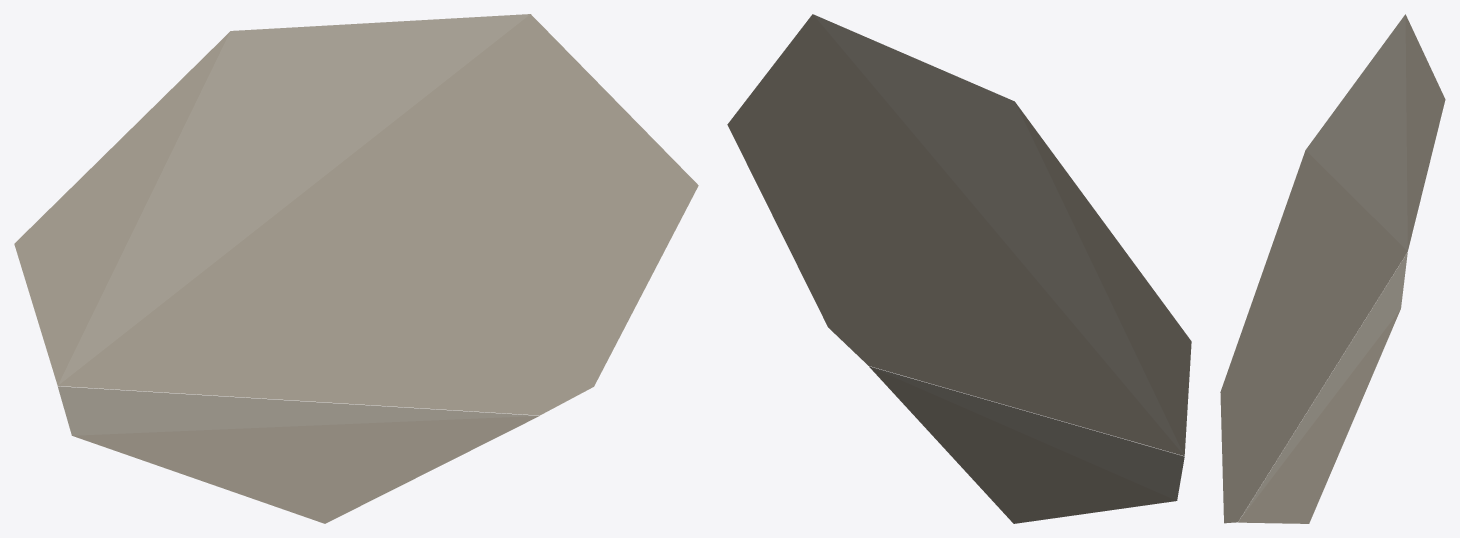
Rendered from SM_MS3_Feed_Eco_04_0.fbx.
3 views of the same model, side by side, from view 1: azimuth 30°, elevation 25°; view 2: azimuth 150°, elevation 25°; view 3: azimuth 270°, elevation 25° (orthographic). The views are drawn at different scales.
Visible parts, largest first — view 1: SM_MS3_Feed_Eco_04_0; view 2: SM_MS3_Feed_Eco_04_0; view 3: SM_MS3_Feed_Eco_04_0.
Part boxes in pixels (left/top/right/bottom): SM_MS3_Feed_Eco_04_0: left=14, top=14, right=698, bottom=523; SM_MS3_Feed_Eco_04_0: left=727, top=14, right=1191, bottom=523; SM_MS3_Feed_Eco_04_0: left=1220, top=14, right=1445, bottom=523.
Size of the model in its own units: 2.37 by 0.7777 by 1.85.
